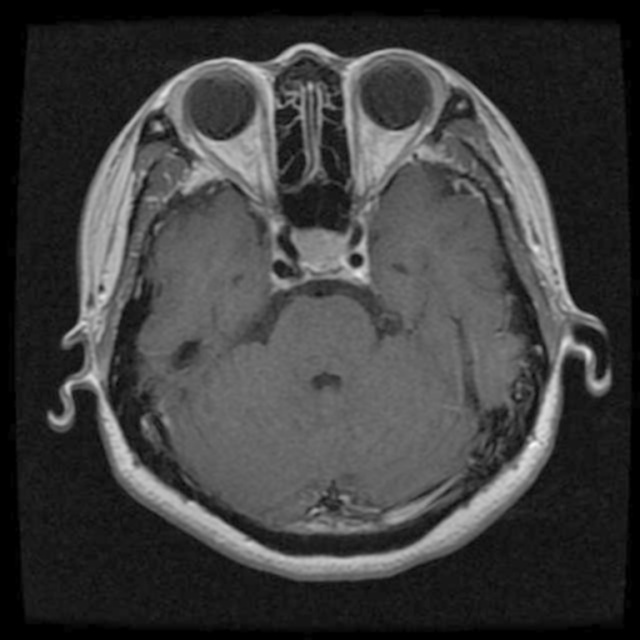no tumor: (292, 221, 362, 284)
